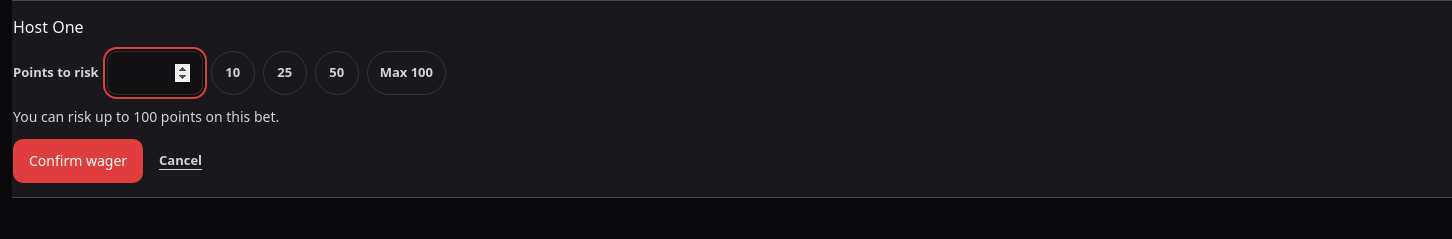
Scenario: a wager that fails to save stays open with its reason and cannot be sent twice
Type "5" into the number field labelled "Points to risk" at (155, 73), box [107,51,203,95]
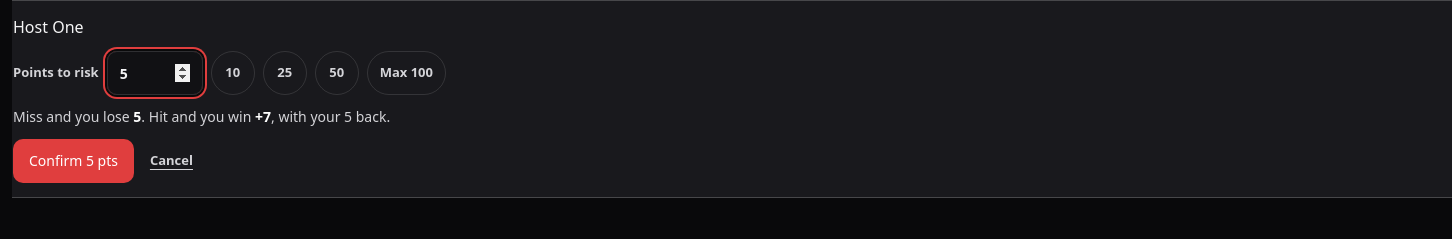
Submit the form
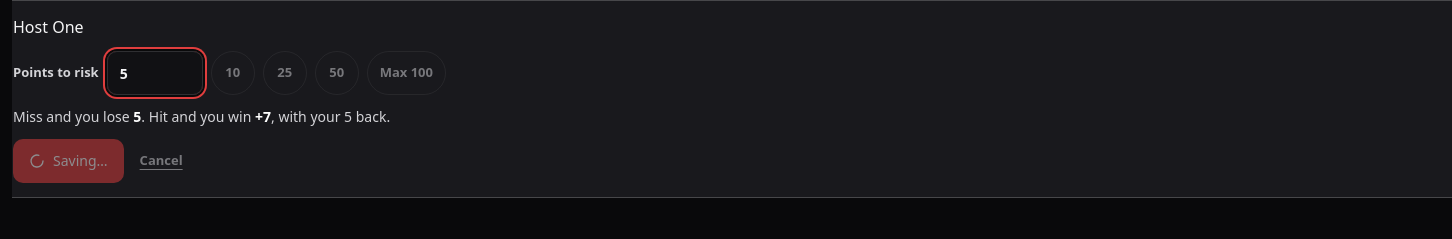
Expected: the button "Saving…" is enabled, [13,139,124,183]
Expected: the button "Cancel" is disabled, [140,139,184,183]
Expected: the button "Max 100" is disabled, [367,51,446,95]
Submit the form
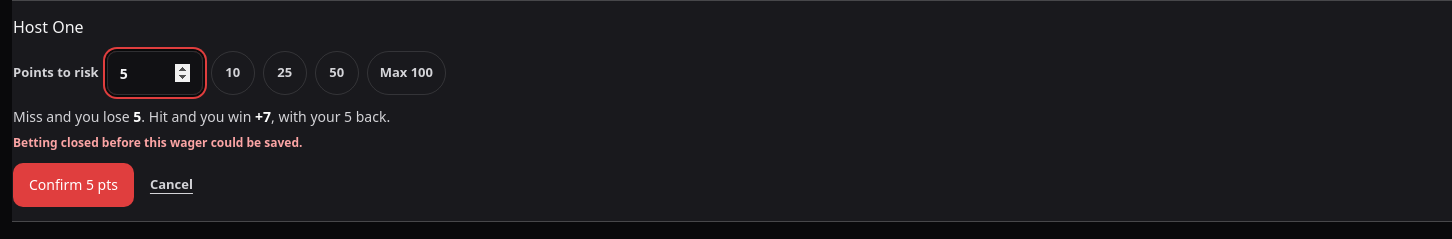
Expected: the message "Betting closed before this wager could be saved." is shown, [13,134,302,151]
Submit the form
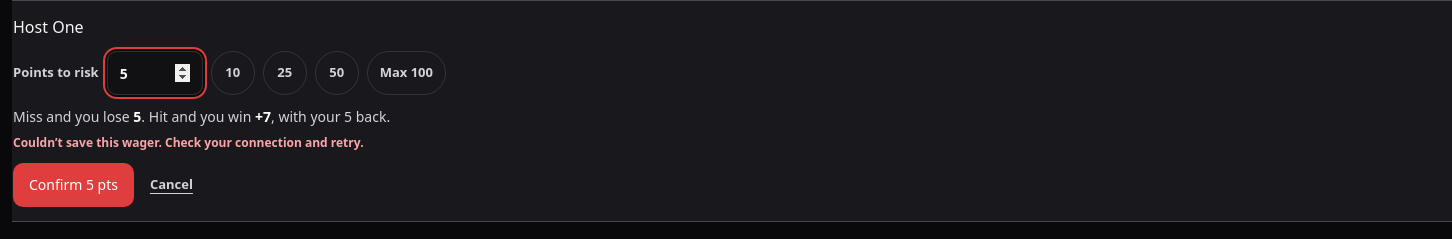
Expected: the message "Couldn’t save this wager. Check your connection and retry." is shown, [13,134,364,151]
